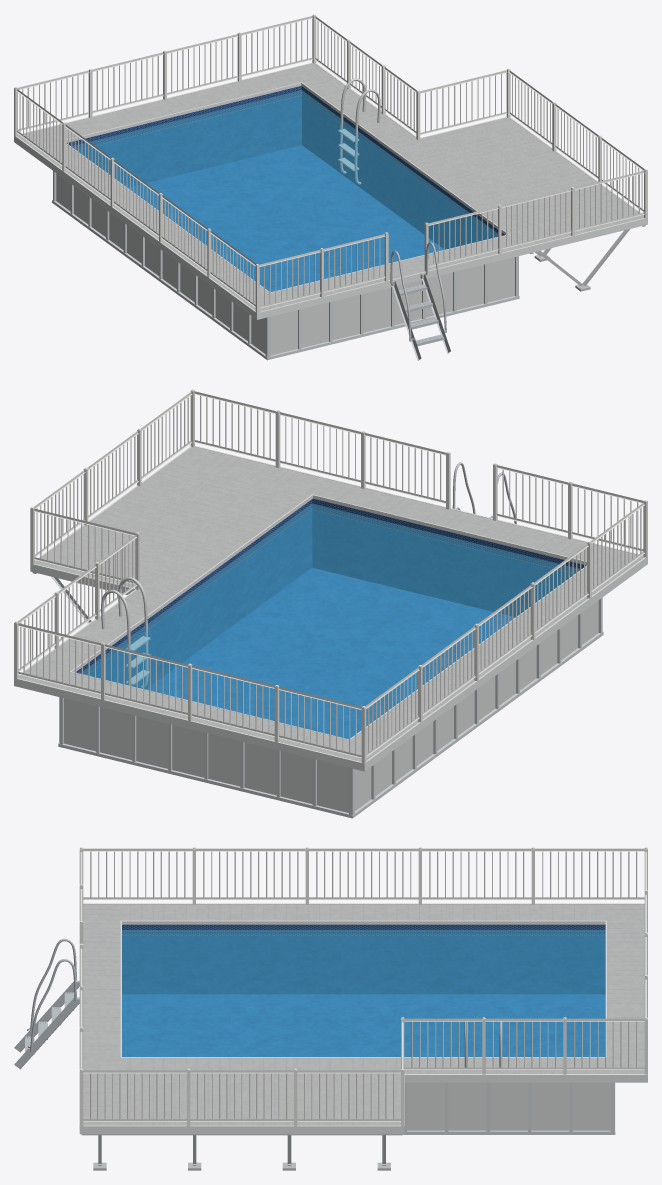
File: kayak-pool-16x24-white-l-ag-fence.daef2072df.glb
3 views of the same model, one above another, from view 1: azimuth 30°, elevation 25°; view 2: azimuth 150°, elevation 25°; view 3: azimuth 270°, elevation 25° (orthographic). The views are drawn at different scales.
Parts seen in each view (by area): view 1: water, deck, fence, liner_floor, liner_wall, wall, fascia, upright, ladder, steel, stud; view 2: water, deck, fence, liner_floor, liner_wall, wall, fascia, upright, steel; view 3: water, deck, liner_wall, liner_floor, fence, fascia, wall, ladder, upright, stud.
Boxes of the visible parts, bbox=[...] form: water: bbox=[72, 90, 497, 291]; deck: bbox=[17, 63, 643, 311]; fence: bbox=[14, 14, 647, 312]; liner_floor: bbox=[128, 145, 443, 291]; liner_wall: bbox=[66, 86, 504, 249]; wall: bbox=[56, 173, 514, 355]; fascia: bbox=[14, 62, 647, 319]; upright: bbox=[52, 171, 519, 360]; ladder: bbox=[390, 242, 450, 360]; steel: bbox=[338, 78, 380, 184]; stud: bbox=[530, 225, 645, 291]; water: bbox=[80, 504, 579, 738]; deck: bbox=[18, 446, 643, 761]; fence: bbox=[14, 389, 647, 763]; liner_floor: bbox=[146, 568, 515, 738]; liner_wall: bbox=[76, 498, 586, 689]; wall: bbox=[64, 600, 598, 812]; fascia: bbox=[14, 446, 647, 771]; upright: bbox=[58, 597, 603, 818]; steel: bbox=[101, 577, 150, 688]; water: bbox=[122, 930, 605, 1056]; deck: bbox=[79, 904, 644, 1129]; liner_wall: bbox=[122, 924, 605, 994]; liner_floor: bbox=[122, 994, 605, 1056]; fence: bbox=[79, 847, 647, 1133]; fascia: bbox=[80, 903, 647, 1134]; wall: bbox=[407, 1082, 610, 1130]; ladder: bbox=[14, 938, 79, 1069]; upright: bbox=[402, 1082, 615, 1134]; stud: bbox=[81, 1134, 402, 1170].
Bounding box in the file's own units: 7.93 × 2.15 × 9.52.
11 materials, 3 textured.
